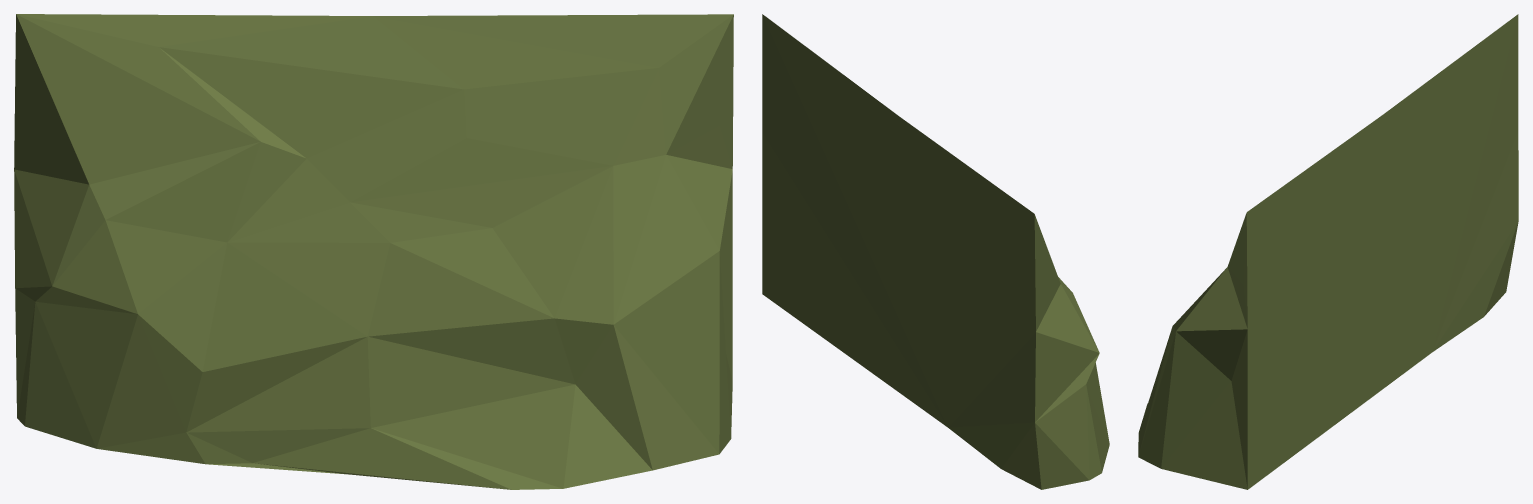
Rendered from ground_41.fbx.
3 renders of one model, left to right at view 1: azimuth 30°, elevation 25°; view 2: azimuth 150°, elevation 25°; view 3: azimuth 270°, elevation 25°, orthographic. The views are drawn at different scales.
Visible parts, largest first — view 1: ground_41; view 2: ground_41; view 3: ground_41.
Part boxes in pixels (left/top/right/bottom): ground_41: left=14, top=14, right=733, bottom=489; ground_41: left=762, top=14, right=1109, bottom=489; ground_41: left=1138, top=14, right=1518, bottom=489.
Bounding box in the file's own units: 4.65 × 2.84 × 3.51.
